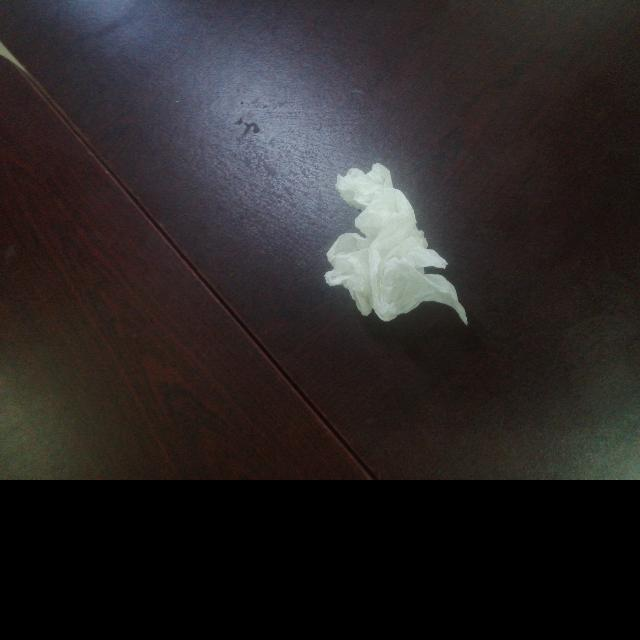kitchen paper: (321, 156, 475, 334)
